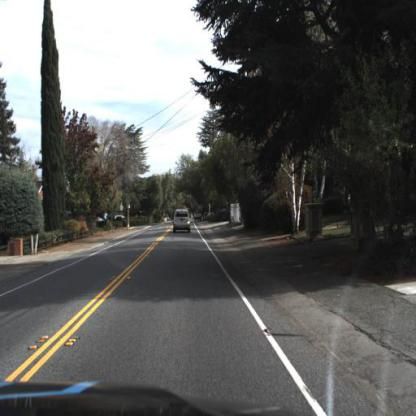car: (173, 211, 196, 240), (195, 211, 203, 225)
